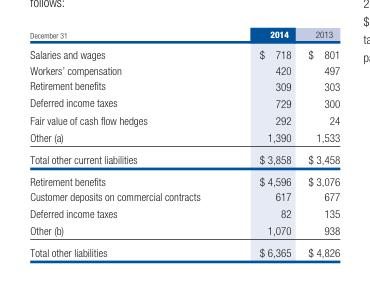table: (29, 28, 339, 258)
table column: (29, 28, 229, 258), (229, 28, 299, 258), (299, 28, 339, 258)
table column header: (29, 28, 339, 43)
table row: (29, 147, 339, 169), (29, 128, 339, 147), (29, 169, 339, 188), (29, 221, 339, 240), (29, 43, 339, 61), (29, 240, 339, 258), (29, 77, 339, 94), (29, 94, 339, 111), (29, 111, 339, 128), (29, 204, 339, 221), (29, 61, 339, 77), (29, 188, 339, 204), (29, 28, 339, 43)
